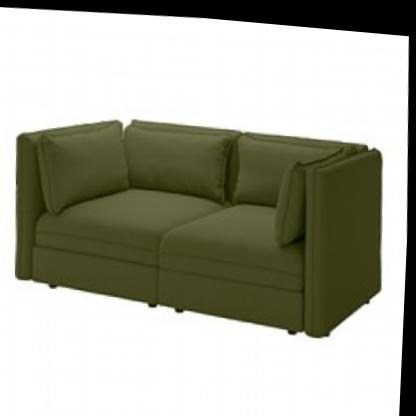Sofa: (0, 69, 403, 358)
